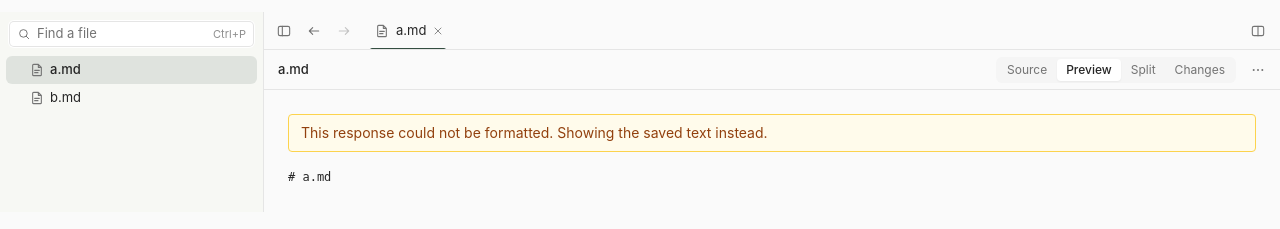
Test: opens each file tab in a fresh view instead of reusing the previous file's scroll position
This screenshot has width=1280, height=229.
Expected: the text "# a.md" is shown, left=288, top=170, right=331, bottom=184
In the field named "Find a file": (122, 34) left=37, top=24, right=207, bottom=44, type "b.md"
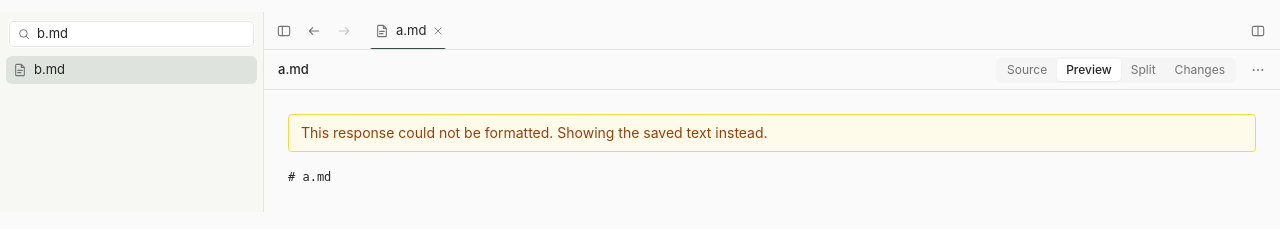
Press Enter in the field named "Find a file", box left=37, top=24, right=246, bottom=44
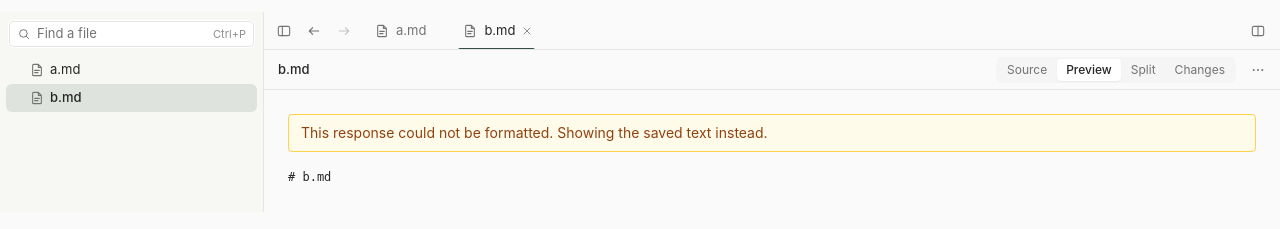
Expected: the text "# b.md" is shown, left=288, top=170, right=331, bottom=184
